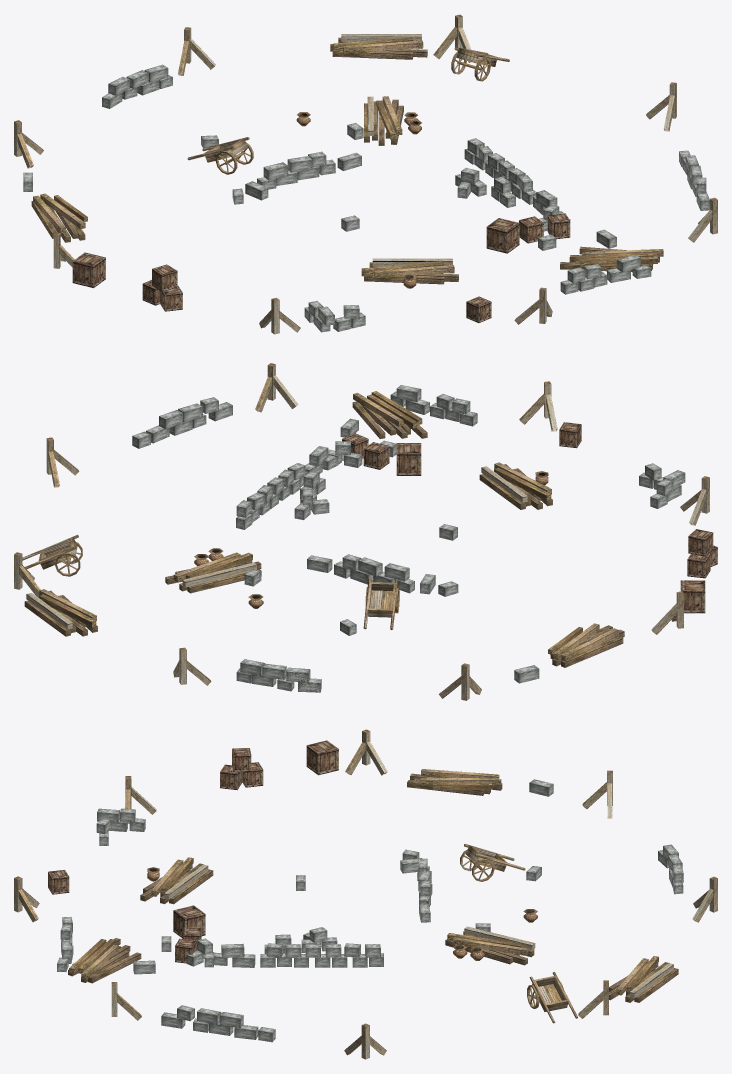
The model's file is found_theatron.dae.
3 renders of one model, top to bottom at view 1: azimuth 30°, elevation 25°; view 2: azimuth 150°, elevation 25°; view 3: azimuth 270°, elevation 25°, orthographic. The views are drawn at different scales.
Visible parts, largest first — view 1: objhand_cart_final03-Pivot; view 2: objhand_cart_final03-Pivot; view 3: objhand_cart_final03-Pivot.
Boxes of the visible parts, box(x1,y1,x2,y2) form: objhand_cart_final03-Pivot: box(14, 14, 717, 334); objhand_cart_final03-Pivot: box(14, 363, 717, 700); objhand_cart_final03-Pivot: box(14, 729, 717, 1059).
Size of the model in its own units: 52.16 by 52.1 by 3.
